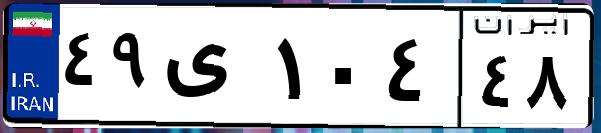0: (330, 28, 385, 110)
1: (270, 28, 330, 110)
4: (385, 28, 445, 110), (57, 26, 110, 100), (475, 38, 525, 113)
8: (525, 38, 570, 115)
9: (110, 28, 158, 98)
ی: (158, 20, 270, 120)
